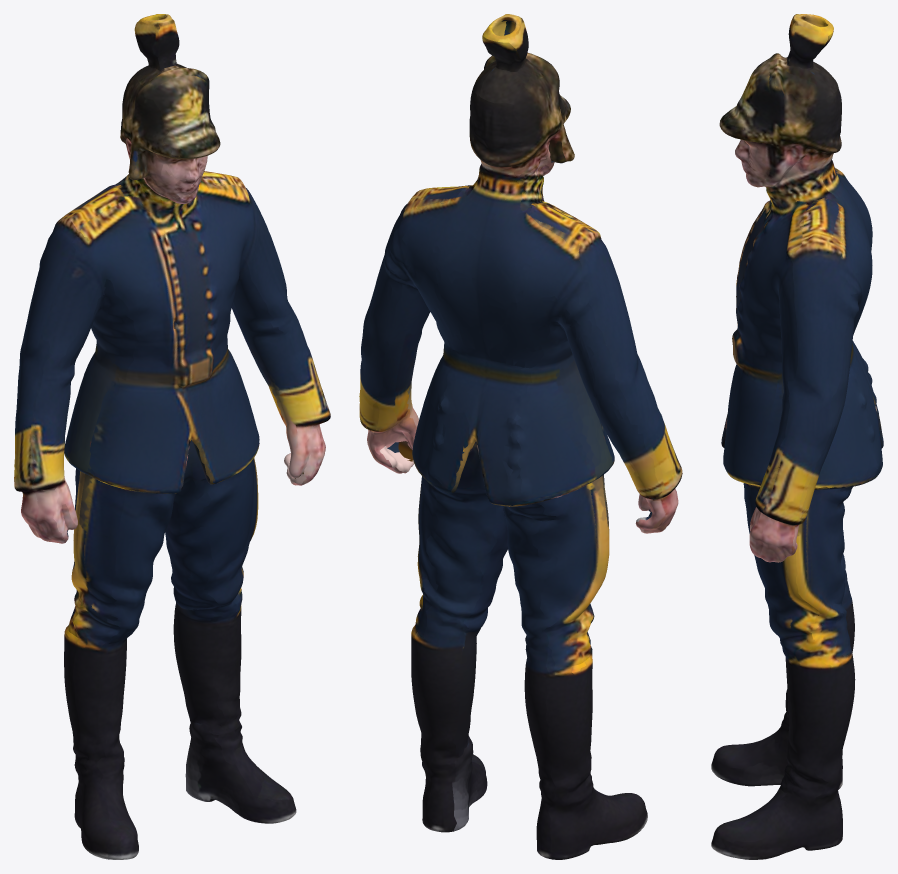
Rendered from SE_Artilleri_1864_Apose_textured.glb.
3 views of the same model, side by side, from view 1: azimuth 30°, elevation 25°; view 2: azimuth 150°, elevation 25°; view 3: azimuth 270°, elevation 25° (orthographic). The views are drawn at different scales.
Visible parts, largest first — view 1: tmph_v6pjqb.ply; view 2: tmph_v6pjqb.ply; view 3: tmph_v6pjqb.ply.
Boxes of the visible parts, left/top/right/bottom form: tmph_v6pjqb.ply: left=14, top=14, right=330, bottom=859; tmph_v6pjqb.ply: left=359, top=14, right=682, bottom=859; tmph_v6pjqb.ply: left=711, top=14, right=883, bottom=859.
Size of the model in its own units: 0.8082 by 1.99 by 0.3917.
Materials: 1 (1 with a texture image).
